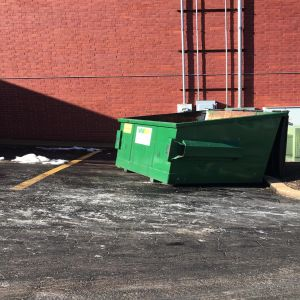Dumpster: (110, 106, 292, 189)
